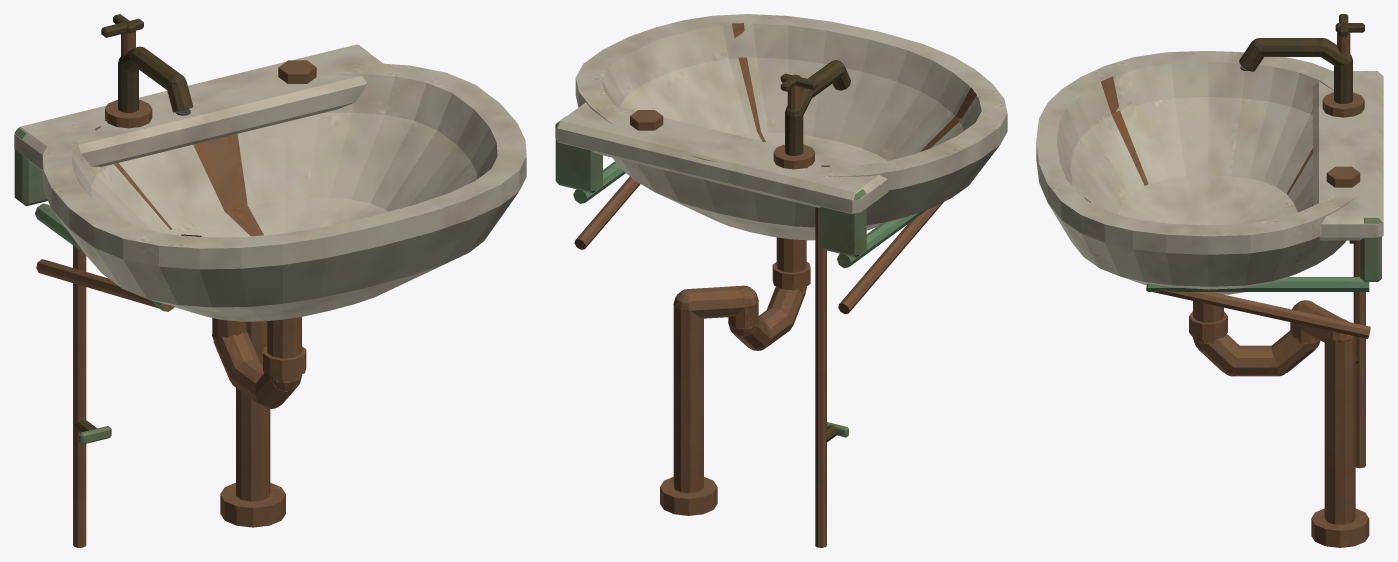
Rendered from B17_wash_basin_v2.glb.
3 renders of one model, left to right at view 1: azimuth 30°, elevation 25°; view 2: azimuth 150°, elevation 25°; view 3: azimuth 270°, elevation 25°, orthographic. The views are drawn at different scales.
Visible parts, largest first — view 1: Heavy wall basin with recessed bowl; view 2: Heavy wall basin with recessed bowl; view 3: Heavy wall basin with recessed bowl.
Boxes of the visible parts, x1,y1,x2,y2 form: Heavy wall basin with recessed bowl: (14, 14, 526, 547); Heavy wall basin with recessed bowl: (555, 14, 1007, 547); Heavy wall basin with recessed bowl: (1036, 14, 1383, 547).
Bounding box in the file's own units: 0.6943 × 0.8 × 0.5495.
6 materials, 6 textured.
